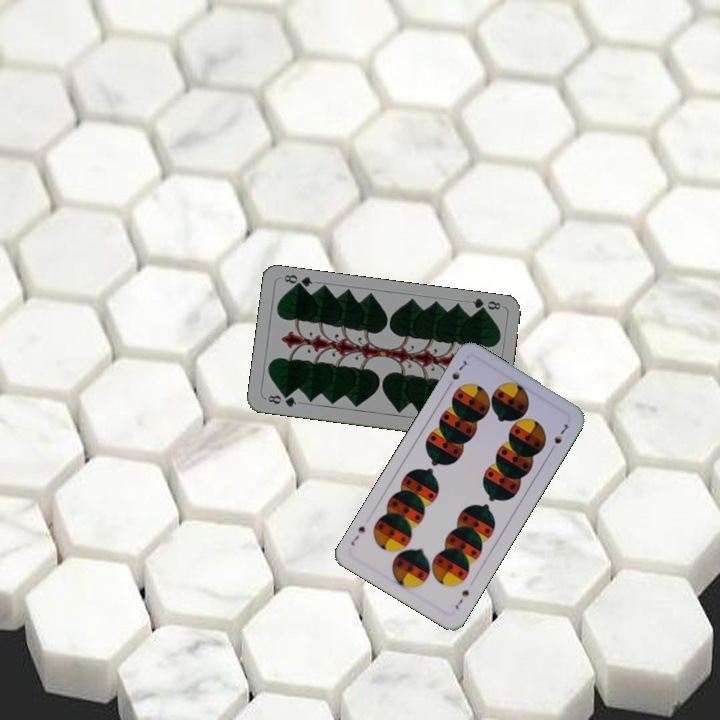G8: (468, 294, 503, 316), (262, 391, 299, 410)
S7: (443, 356, 471, 391), (451, 586, 472, 612)
